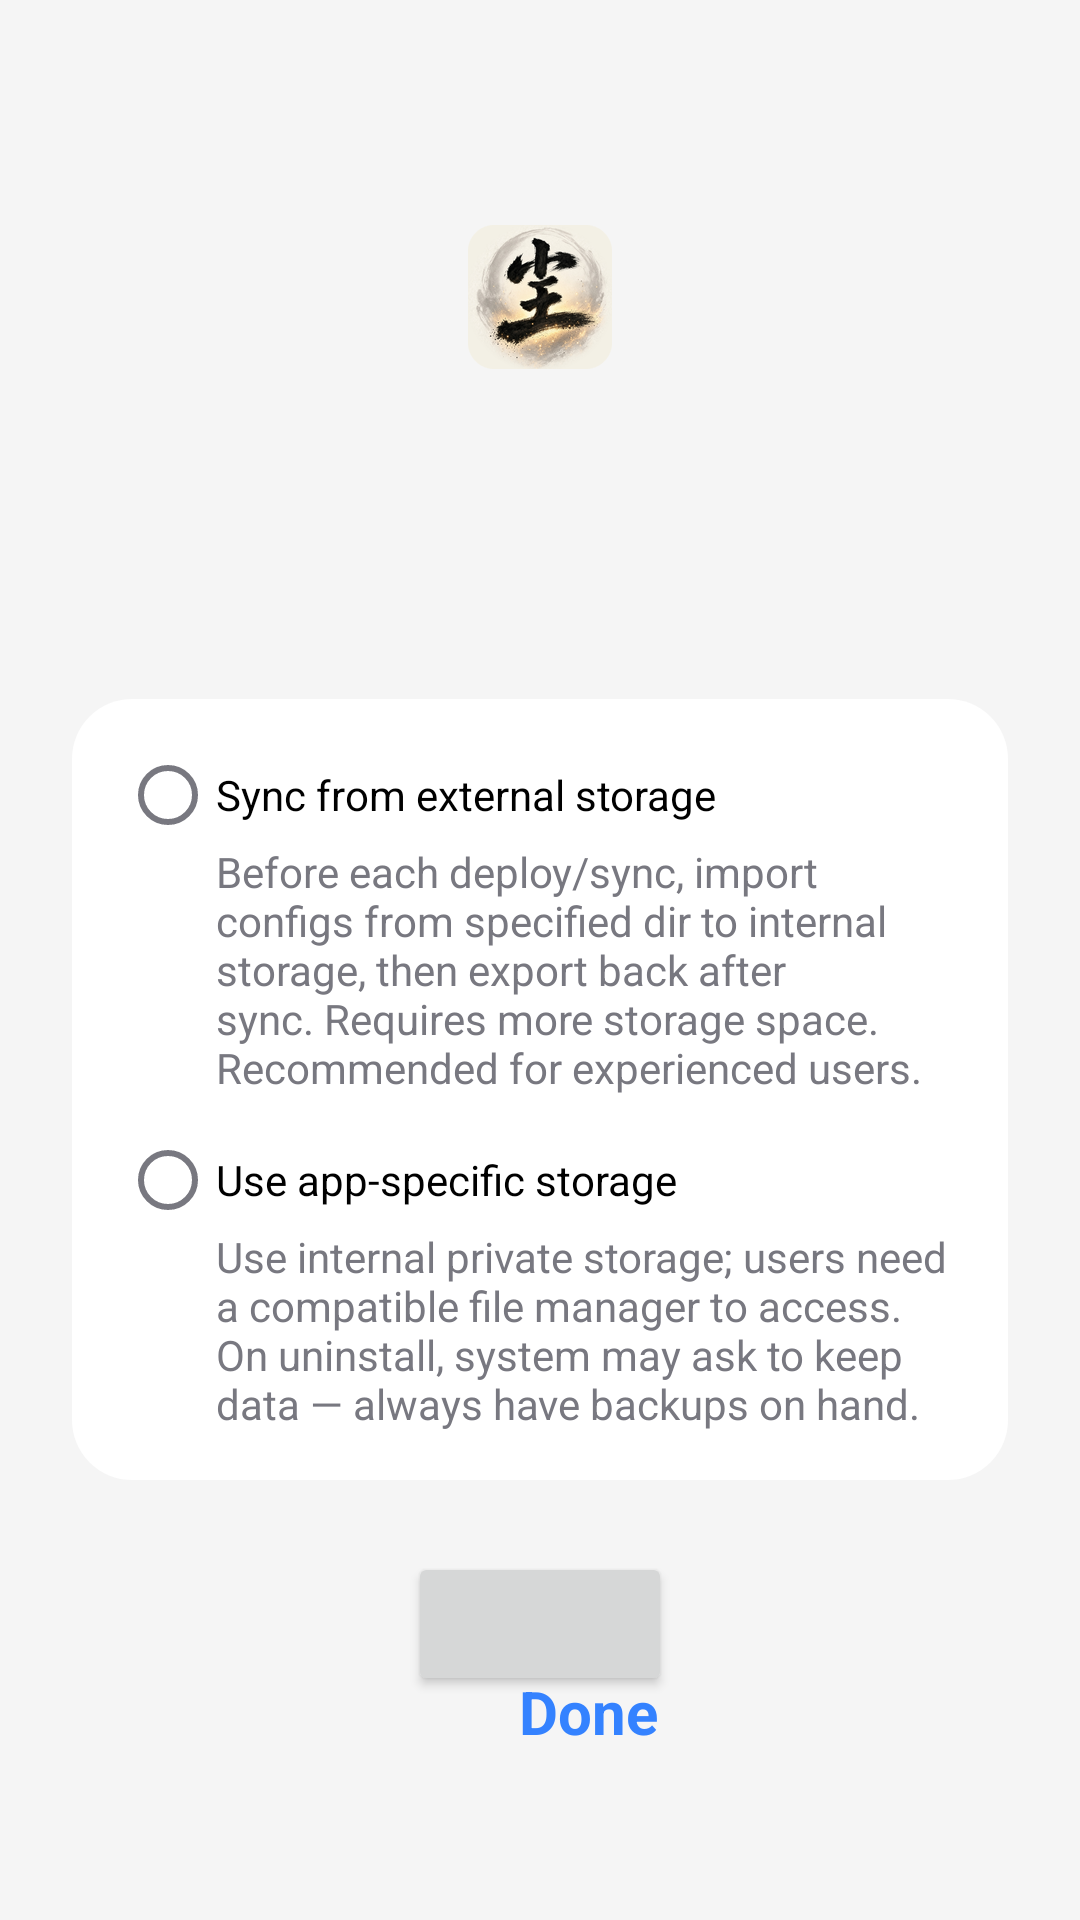

Icons on this 1080w x 1920h Android screen, each with its box as {"x1": x1, "y1": y1, "x2": x2, "y2": y2}:
app: {"x1": 476, "y1": 227, "x2": 607, "y2": 369}
